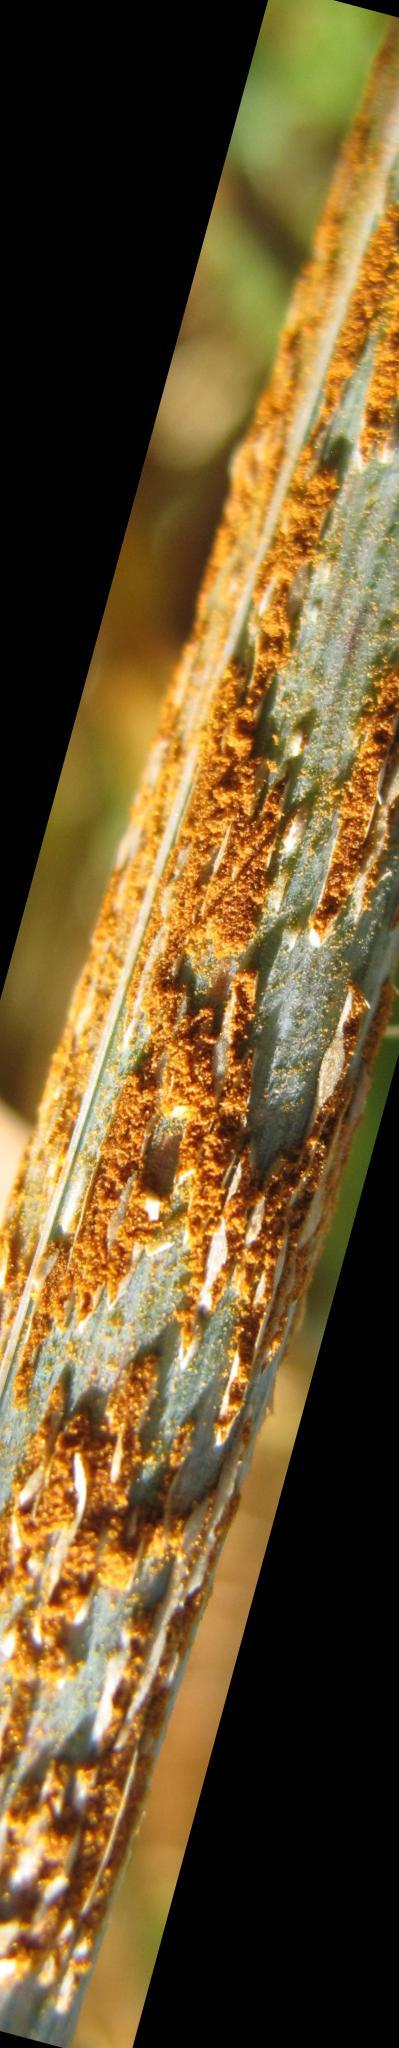Sugarcane: (8, 259, 378, 2018)
